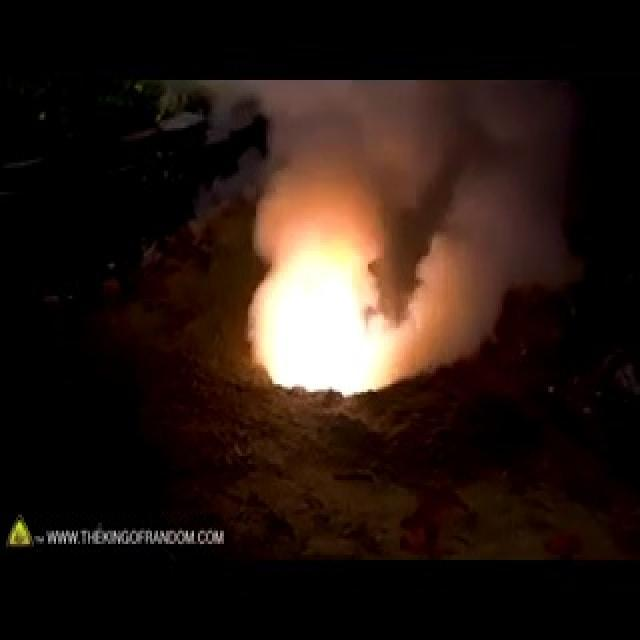fire: (241, 222, 389, 388)
